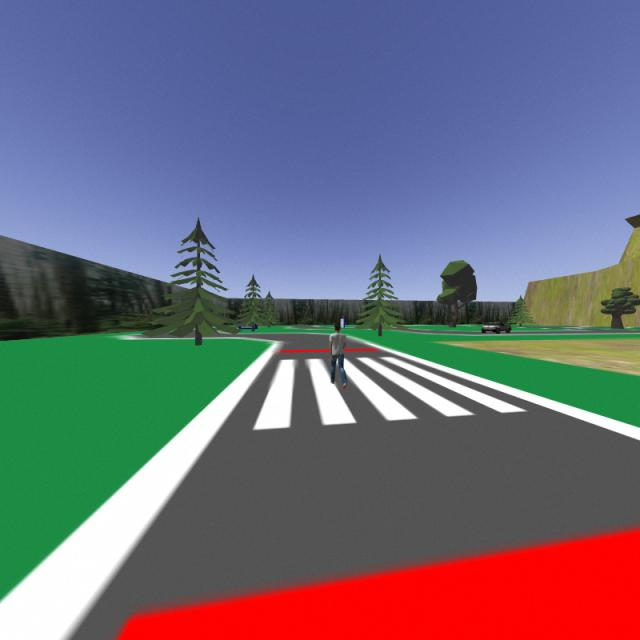pedestrian: (327, 321, 351, 391)
